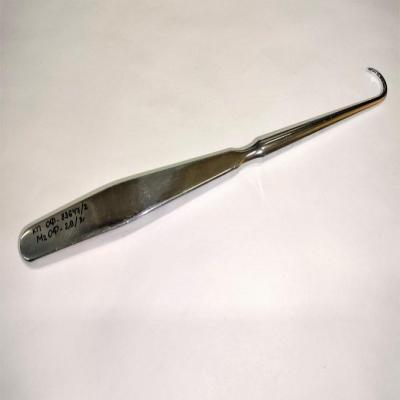other: (18, 69, 387, 267)
